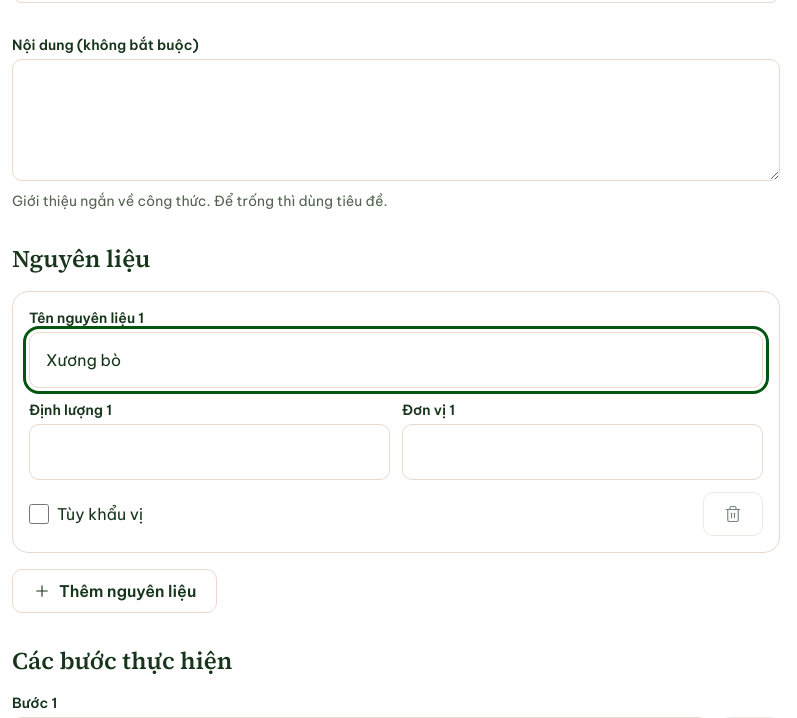
Scenario: CreatePostPage › submits, then goes to the new post with a success flag
The image size is (797, 718).
Earlier steps of the test are not shown.
(page scrolled)
Type "1,5" into the field labelled "Định lượng 1" at (210, 452), box [29, 424, 390, 480]
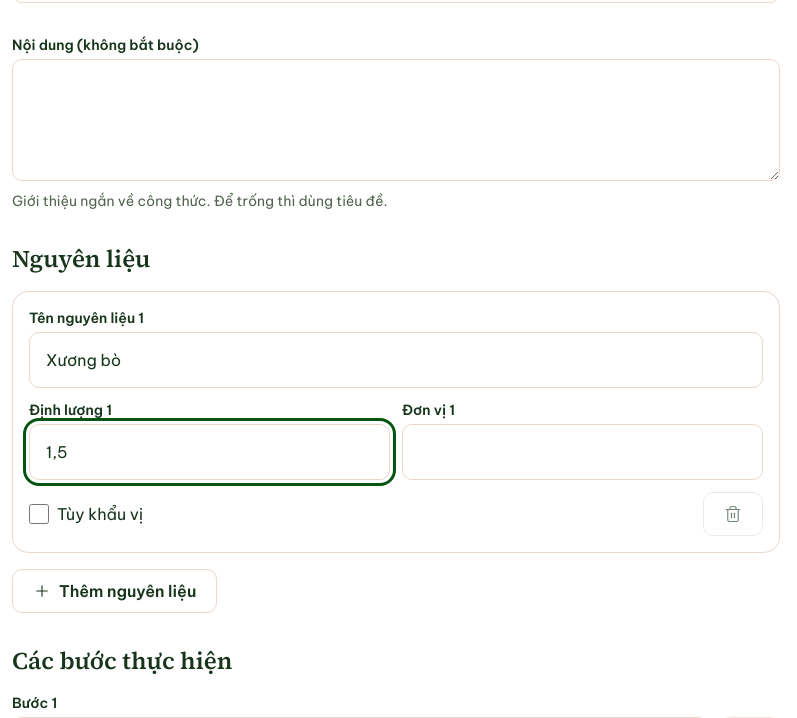
Type "kg" into the field labelled "Đơn vị 1" at (582, 452), box [402, 424, 763, 480]
(page scrolled)
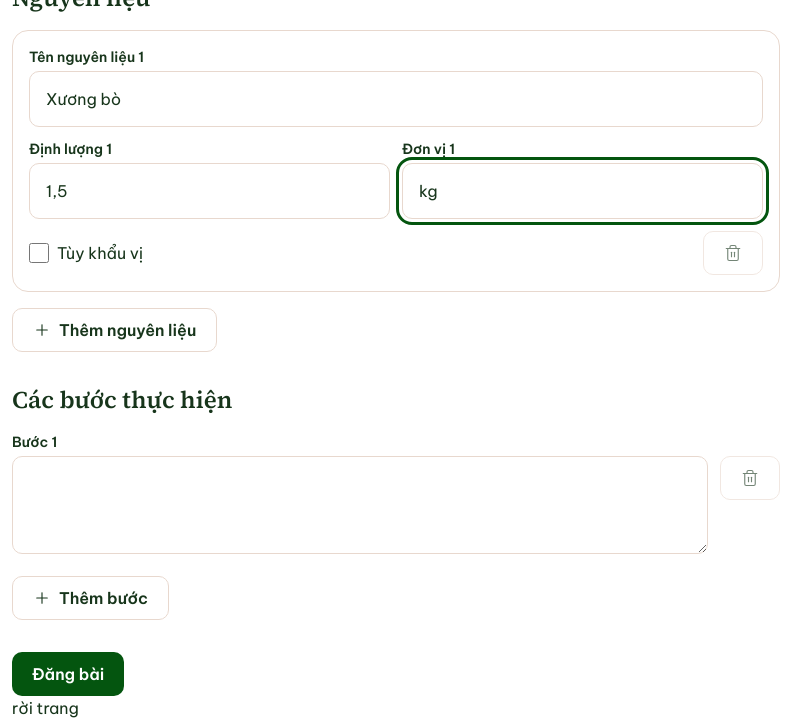
Type "Ninh xương" into the text box labelled "Bước 1" at (360, 505), box [12, 456, 708, 554]
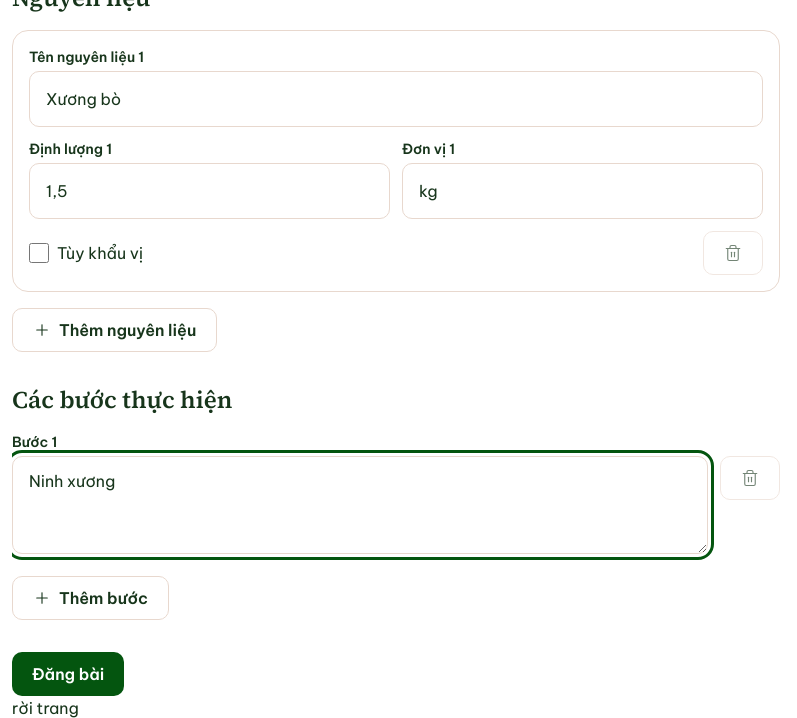
Click the checkbox named "Tùy khẩu vị, nguyên liệu 1" at (39, 253), box [29, 243, 49, 263]
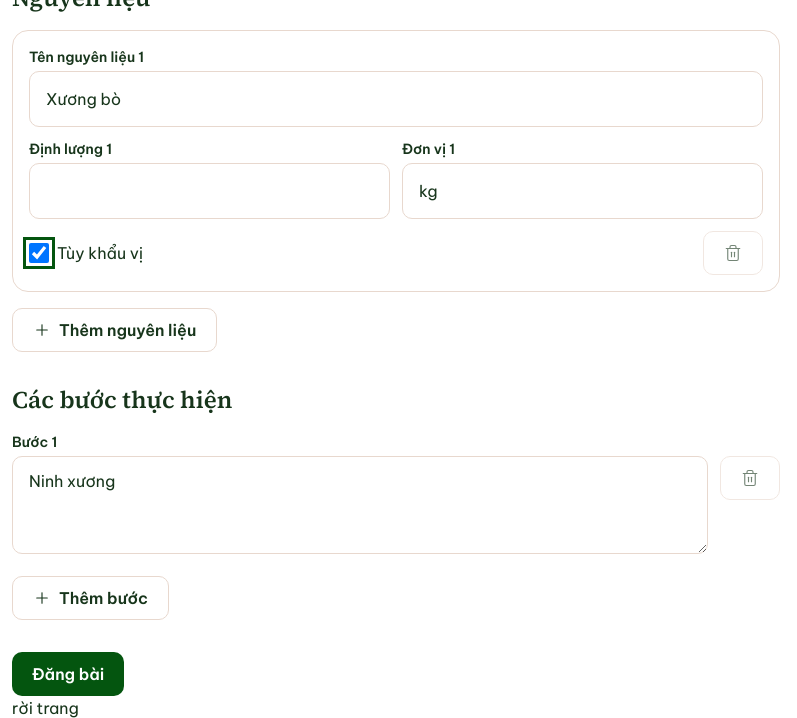
Expected: the field labelled "Định lượng 1" is disabled, [29, 163, 390, 219]
Click the checkbox named "Tùy khẩu vị, nguyên liệu 1" at (39, 253), box [29, 243, 49, 263]
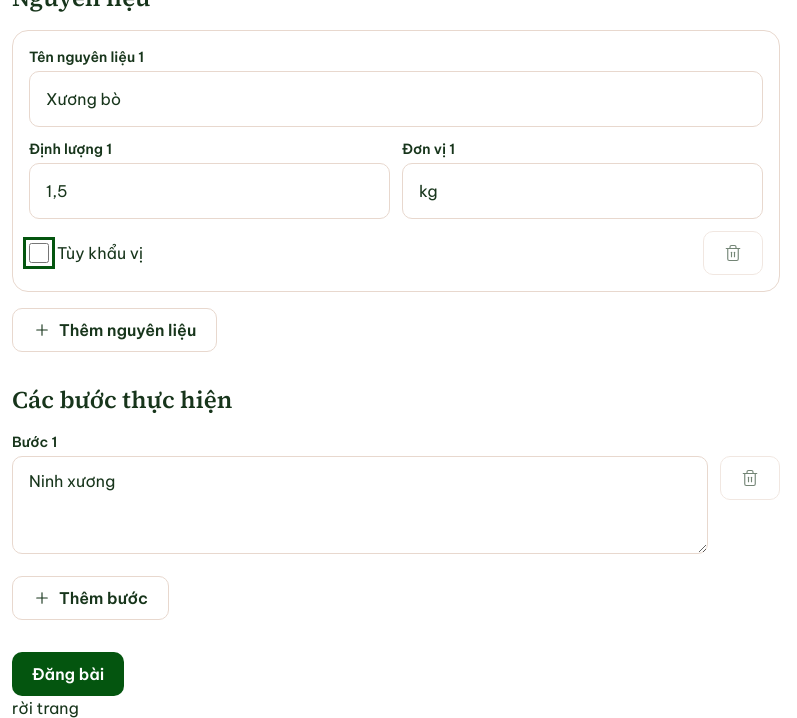
Click the button "Đăng bài" at (68, 674), box [12, 652, 124, 696]
(page scrolled)
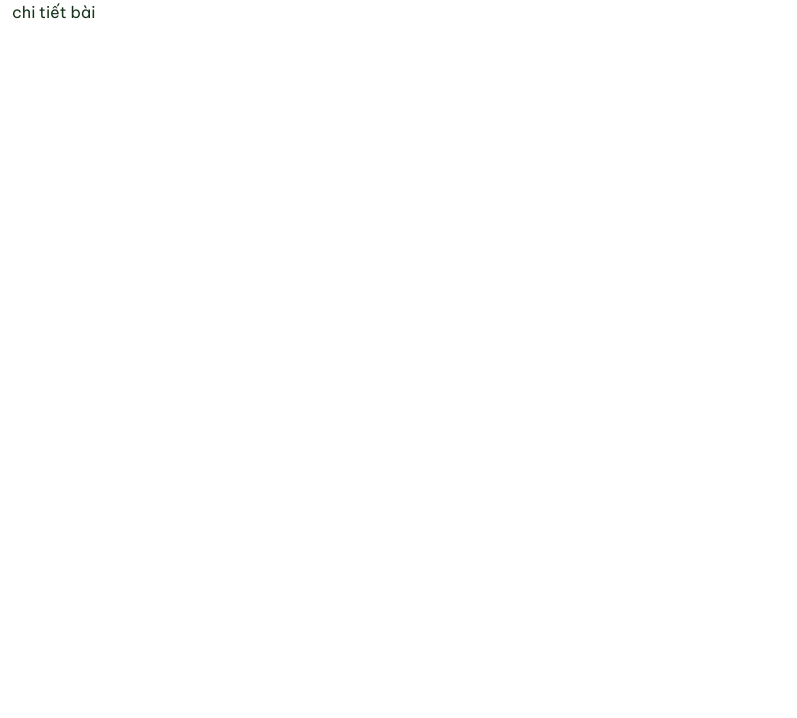
Expected: the text "chi tiết bài" is shown, [12, 2, 95, 22]
